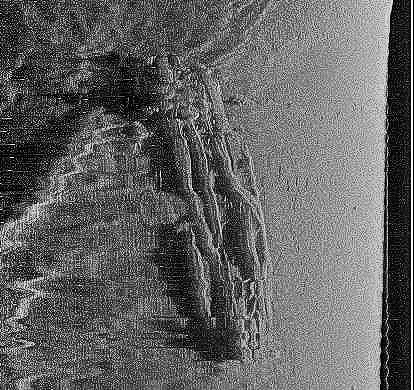ship: (151, 56, 272, 364)
